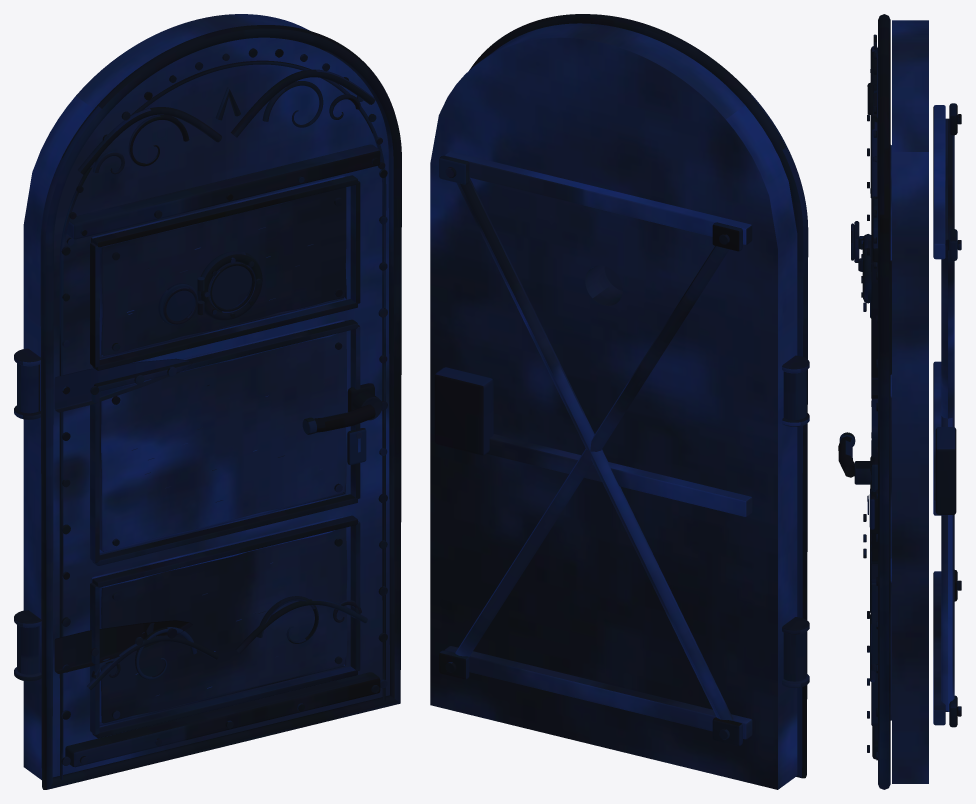
Rendered from Arcanist_Door_V027_WebGL.glb.
3 views of the same model, side by side, from view 1: azimuth 30°, elevation 25°; view 2: azimuth 150°, elevation 25°; view 3: azimuth 270°, elevation 25° (orthographic). The views are drawn at different scales.
Visible parts, largest first — view 1: Door_arched_iron_body, Hand-hammered_twisted_sheet_1, Hand-hammered_twisted_sheet_0, Outer_arch_rolled_rim, Hand-hammered_twisted_sheet_2, Heavy_merchant_shop_crossbar.001, Heavy_merchant_shop_crossbar, Inner_arch_raised_bead, Functional_riveted_hinge_strap, Forged_panel_horizontal_lip.001, Forged_panel_horizontal_lip.005, Forged_panel_horizontal_lip.002 (+24 smaller); view 2: Door_arched_iron_body, Outer_arch_rolled_rim, Interior_diagonal_stiffener, Interior_diagonal_stiffener.001, Interior_forged_crossbrace.002, Interior_forged_crossbrace, Interior_forged_crossbrace.001, Interior_lock_case, Functional_vertical_hinge_barrel, Functional_vertical_hinge_barrel.001, Structural_rear_brace_end_plate.003, Structural_rear_brace_end_plate.001; view 3: Door_arched_iron_body, Outer_arch_rolled_rim, Interior_diagonal_stiffener.001, Interior_diagonal_stiffener, Interior_forged_crossbrace.002, Interior_lock_case, Interior_forged_crossbrace, Forged_panel_vertical_lip.001, Interior_forged_crossbrace.001, Forged_panel_vertical_lip.005, Forged_panel_vertical_lip.003, Upper_sweeping_arch_vine.001 (+12 smaller).
Boxes of the visible parts, x1=… form: Door_arched_iron_body: x1=23, y1=14, x2=389, y2=779; Hand-hammered_twisted_sheet_1: x1=99, y1=331, x2=346, y2=551; Hand-hammered_twisted_sheet_0: x1=99, y1=527, x2=347, y2=723; Outer_arch_rolled_rim: x1=40, y1=25, x2=401, y2=789; Hand-hammered_twisted_sheet_2: x1=99, y1=187, x2=346, y2=356; Heavy_merchant_shop_crossbar.001: x1=66, y1=144, x2=380, y2=239; Heavy_merchant_shop_crossbar: x1=65, y1=672, x2=380, y2=767; Inner_arch_raised_bead: x1=59, y1=60, x2=386, y2=780; Functional_riveted_hinge_strap: x1=54, y1=620, x2=192, y2=673; Forged_panel_horizontal_lip.001: x1=92, y1=515, x2=357, y2=587; Forged_panel_horizontal_lip.005: x1=92, y1=175, x2=357, y2=247; Forged_panel_horizontal_lip.002: x1=92, y1=494, x2=357, y2=565; Door_arched_iron_body: x1=430, y1=23, x2=797, y2=789; Outer_arch_rolled_rim: x1=469, y1=14, x2=808, y2=778; Interior_diagonal_stiffener: x1=456, y1=177, x2=733, y2=720; Interior_diagonal_stiffener.001: x1=455, y1=246, x2=729, y2=656; Interior_forged_crossbrace.002: x1=444, y1=151, x2=752, y2=244; Interior_forged_crossbrace: x1=444, y1=646, x2=752, y2=739; Interior_forged_crossbrace.001: x1=486, y1=434, x2=752, y2=516; Interior_lock_case: x1=434, y1=367, x2=493, y2=455; Functional_vertical_hinge_barrel: x1=783, y1=632, x2=806, y2=681; Functional_vertical_hinge_barrel.001: x1=783, y1=370, x2=806, y2=420; Structural_rear_brace_end_plate.003: x1=712, y1=222, x2=742, y2=251; Structural_rear_brace_end_plate.001: x1=439, y1=155, x2=469, y2=184; Door_arched_iron_body: x1=892, y1=20, x2=928, y2=783; Outer_arch_rolled_rim: x1=878, y1=14, x2=890, y2=789; Interior_diagonal_stiffener.001: x1=941, y1=118, x2=954, y2=711; Interior_diagonal_stiffener: x1=941, y1=239, x2=954, y2=418; Interior_forged_crossbrace.002: x1=933, y1=105, x2=945, y2=259; Interior_lock_case: x1=935, y1=427, x2=956, y2=514; Interior_forged_crossbrace: x1=933, y1=571, x2=945, y2=725; Forged_panel_vertical_lip.001: x1=871, y1=583, x2=877, y2=723; Interior_forged_crossbrace.001: x1=933, y1=361, x2=944, y2=515; Forged_panel_vertical_lip.005: x1=871, y1=262, x2=877, y2=377; Forged_panel_vertical_lip.003: x1=871, y1=398, x2=877, y2=561; Upper_sweeping_arch_vine.001: x1=870, y1=116, x2=877, y2=199.
Size of the model in its own units: 1.25 by 2.3 by 0.3809.
2 materials, 2 textured.
